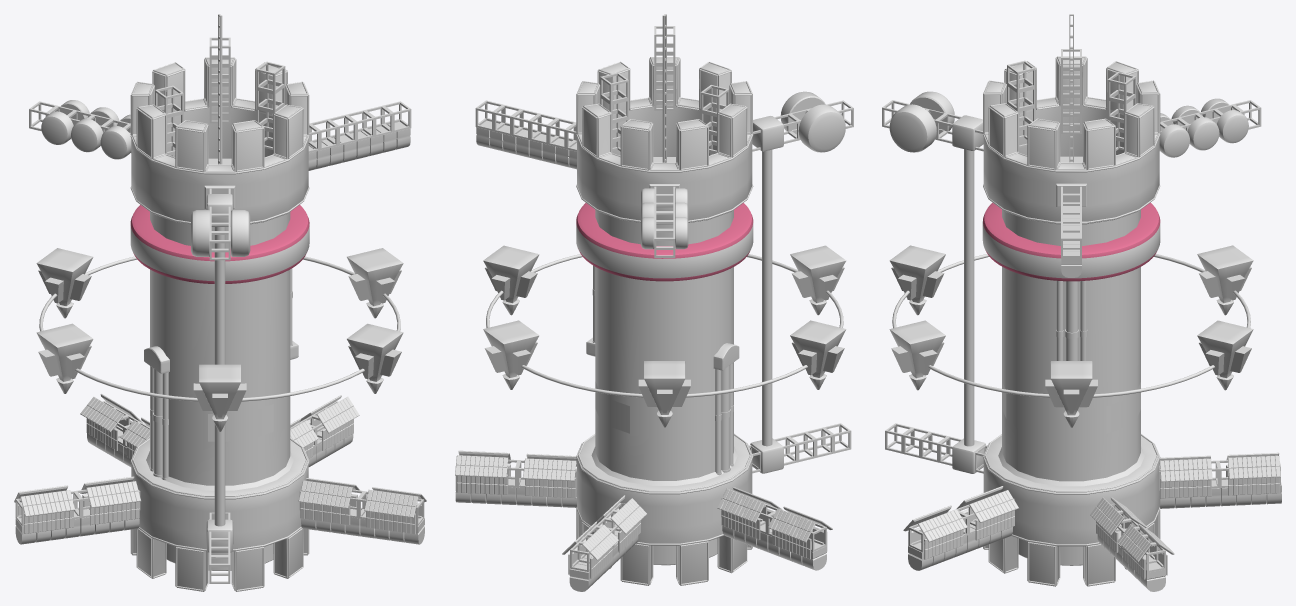
Rendered from estação_completa.fbx.
The picture shows the model from 3 angles, left to right: view 1: azimuth 30°, elevation 25°; view 2: azimuth 150°, elevation 25°; view 3: azimuth 270°, elevation 25°; orthographic projection.
Parts seen in each view (by area): view 1: estaçao_base, estaçcao_piramids, Estacáo_vidraça, estacáo_quinas.001, estacáo_ferragem.001, estacáo_ferragem_003, estacáo_quinas, Cylinder.009, estacáo_ferragem.002, resevatorio de energia, Torus, resevatorio de energia.003 (+23 smaller); view 2: estaçao_base, estaçcao_piramids, Estacáo_vidraça, estacáo_quinas.001, estacáo_ferragem.001, estacáo_ferragem.002, Cylinder.009, estacáo_ferragem_003, estacáo_quinas, resevatorio de energia, Torus, suporte_radar.001 (+22 smaller); view 3: estaçao_base, estaçcao_piramids, Estacáo_vidraça, estacáo_quinas.001, estacáo_ferragem_003, estacáo_ferragem.002, Cylinder.009, estacáo_quinas, estacáo_ferragem.001, suporte_radar, Torus, resevatorio de energia.002 (+25 smaller).
Part boxes in pixels (bbox=[...]): estaçao_base: bbox=[131, 58, 308, 590]; estaçcao_piramids: bbox=[36, 248, 403, 431]; Estacáo_vidraça: bbox=[130, 205, 309, 283]; estacáo_quinas.001: bbox=[130, 57, 309, 224]; estacáo_ferragem.001: bbox=[29, 101, 411, 260]; estacáo_ferragem_003: bbox=[155, 37, 285, 156]; estacáo_quinas: bbox=[130, 438, 309, 591]; Cylinder.009: bbox=[214, 227, 225, 526]; estacáo_ferragem.002: bbox=[15, 401, 424, 583]; resevatorio de energia: bbox=[308, 121, 410, 170]; Torus: bbox=[39, 256, 400, 401]; resevatorio de energia.003: bbox=[15, 508, 139, 544]; estaçao_base: bbox=[577, 58, 752, 584]; estaçcao_piramids: bbox=[483, 245, 846, 427]; Estacáo_vidraça: bbox=[576, 203, 753, 281]; estacáo_quinas.001: bbox=[576, 57, 753, 224]; estacáo_ferragem.001: bbox=[475, 100, 853, 257]; estacáo_ferragem.002: bbox=[455, 423, 851, 571]; Cylinder.009: bbox=[762, 149, 772, 446]; estacáo_ferragem_003: bbox=[600, 26, 729, 155]; estacáo_quinas: bbox=[576, 433, 753, 585]; resevatorio de energia: bbox=[476, 120, 576, 169]; Torus: bbox=[486, 254, 843, 397]; suporte_radar.001: bbox=[798, 104, 845, 152]; estaçao_base: bbox=[983, 57, 1159, 585]; estaçcao_piramids: bbox=[889, 245, 1253, 427]; Estacáo_vidraça: bbox=[982, 202, 1160, 281]; estacáo_quinas.001: bbox=[983, 56, 1160, 224]; estacáo_ferragem_003: bbox=[1007, 49, 1136, 155]; estacáo_ferragem.002: bbox=[885, 423, 1280, 572]; Cylinder.009: bbox=[964, 149, 974, 446]; estacáo_quinas: bbox=[983, 434, 1160, 586]; estacáo_ferragem.001: bbox=[882, 100, 1261, 257]; suporte_radar: bbox=[889, 104, 936, 152]; Torus: bbox=[892, 254, 1250, 397]; resevatorio de energia.002: bbox=[1159, 479, 1281, 508].
Size of the model in its own units: 1425 by 1999 by 1351.
